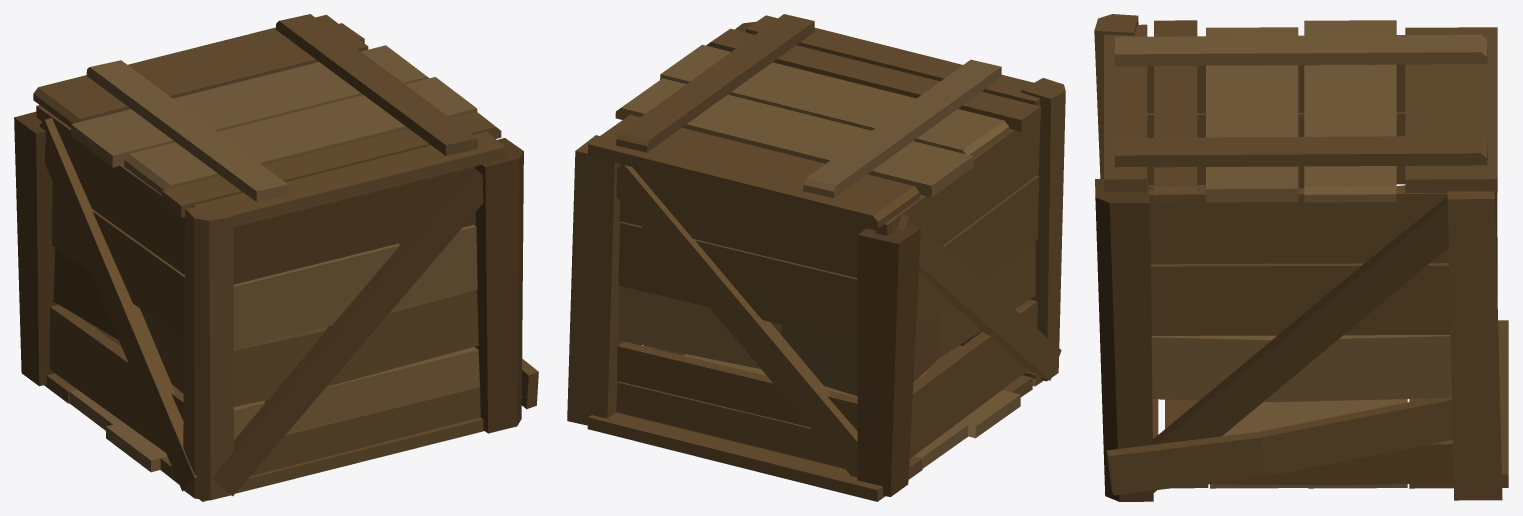
File: EA03_Prop_Container_Crate_02a.glb
The picture shows the model from 3 angles, left to right: view 1: azimuth 30°, elevation 25°; view 2: azimuth 150°, elevation 25°; view 3: azimuth 270°, elevation 25°; orthographic projection. The views are drawn at different scales.
Visible parts, largest first — view 1: EA03_Prop_Container_Crate_02a; view 2: EA03_Prop_Container_Crate_02a; view 3: EA03_Prop_Container_Crate_02a.
Boxes of the visible parts, box(x1,y1,x2,y2) form: EA03_Prop_Container_Crate_02a: box(14, 14, 538, 501); EA03_Prop_Container_Crate_02a: box(567, 14, 1065, 501); EA03_Prop_Container_Crate_02a: box(1094, 14, 1508, 501).
Bounding box in the file's own units: 1.04 × 0.8533 × 0.9766.
Materials: 1 (1 with a texture image).
